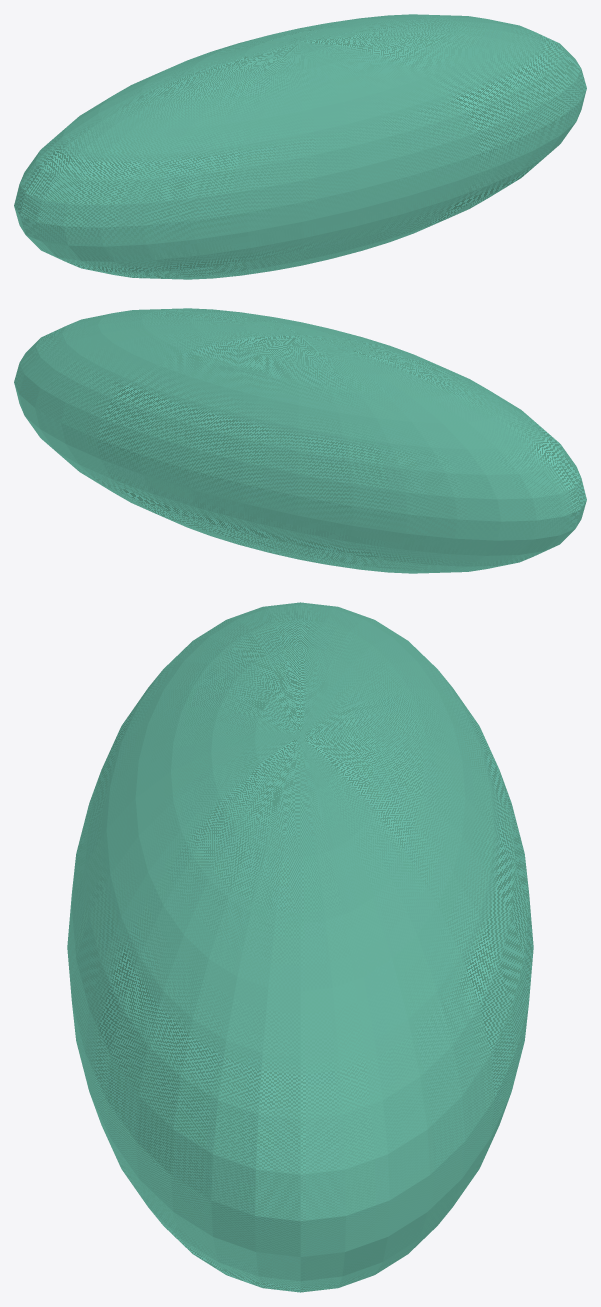
File: cell.glb
3 renders of one model, top to bottom at view 1: azimuth 30°, elevation 25°; view 2: azimuth 150°, elevation 25°; view 3: azimuth 270°, elevation 25°, orthographic. The views are drawn at different scales.
Parts seen in each view (by area): view 1: Сфера; view 2: Сфера; view 3: Сфера.
Boxes of the visible parts, x1=… form: Сфера: x1=14, y1=14, x2=586, y2=279; Сфера: x1=14, y1=308, x2=586, y2=573; Сфера: x1=67, y1=602, x2=533, y2=1292.
Bounding box in the file's own units: 5 × 1.8 × 1.8.
1 material, 1 textured.
